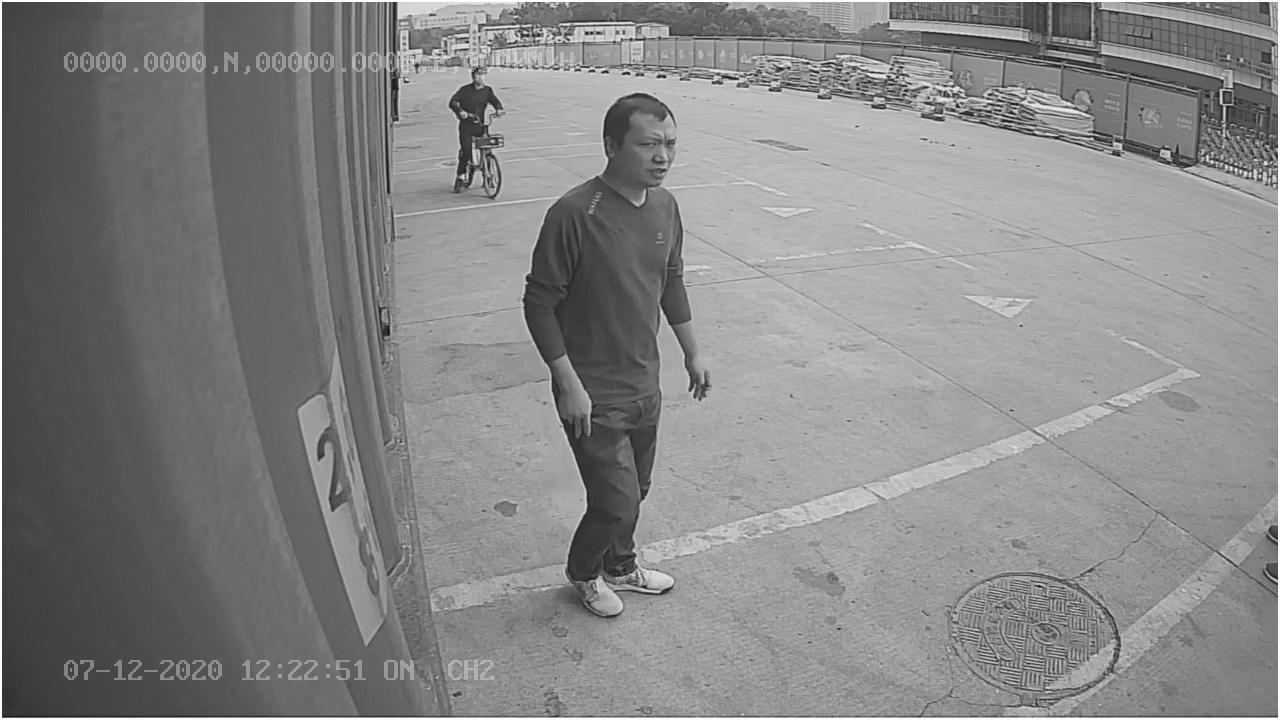person: (516, 88, 720, 630)
